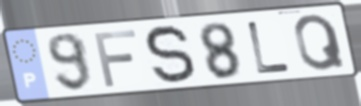8: (195, 20, 243, 81)
9: (45, 31, 94, 94)
F: (91, 27, 140, 89)
L: (245, 19, 294, 76)
Q: (292, 12, 348, 73)
S: (143, 23, 198, 87)
